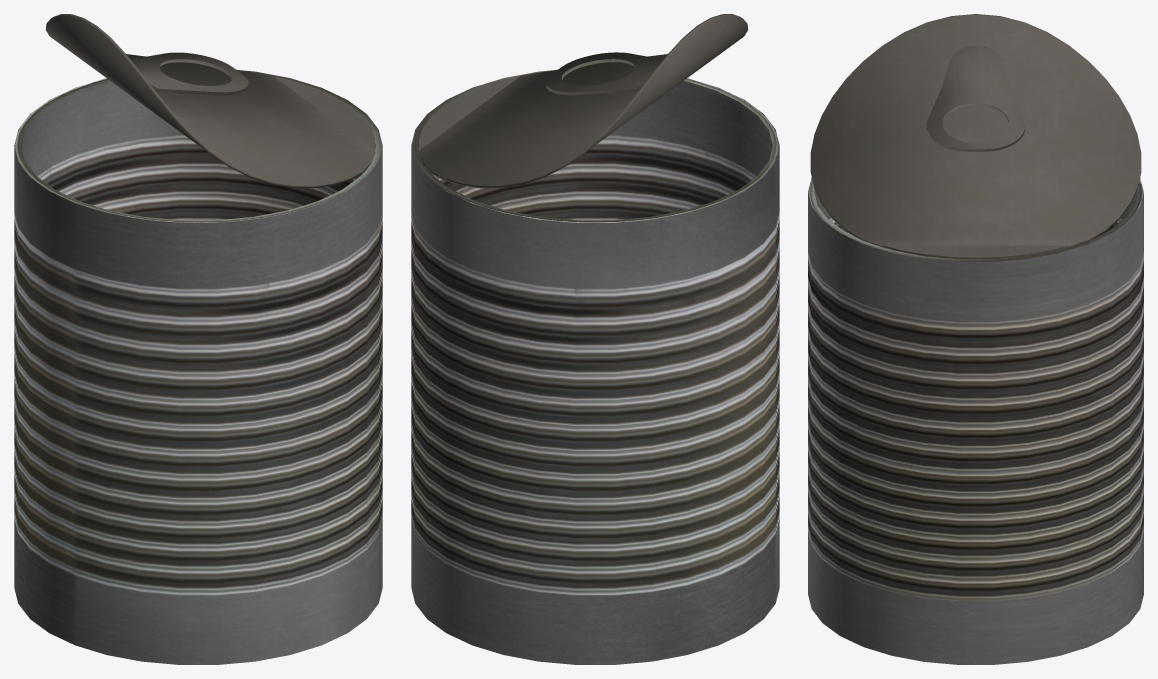
The model's file is TinOpenedLid.fbx.
The picture shows the model from 3 angles, left to right: view 1: azimuth 30°, elevation 25°; view 2: azimuth 150°, elevation 25°; view 3: azimuth 270°, elevation 25°; orthographic projection. The views are drawn at different scales.
Visible parts, largest first — view 1: Cylinder, Lip; view 2: Cylinder, Lip; view 3: Cylinder, Lip.
Boxes of the visible parts, <box> form: Cylinder: <box>14,70,382,664</box>; Lip: <box>45,14,374,188</box>; Cylinder: <box>411,70,779,664</box>; Lip: <box>419,14,748,188</box>; Cylinder: <box>808,177,1143,664</box>; Lip: <box>810,14,1141,259</box>.
Size of the model in its own units: 199 by 351 by 200.
